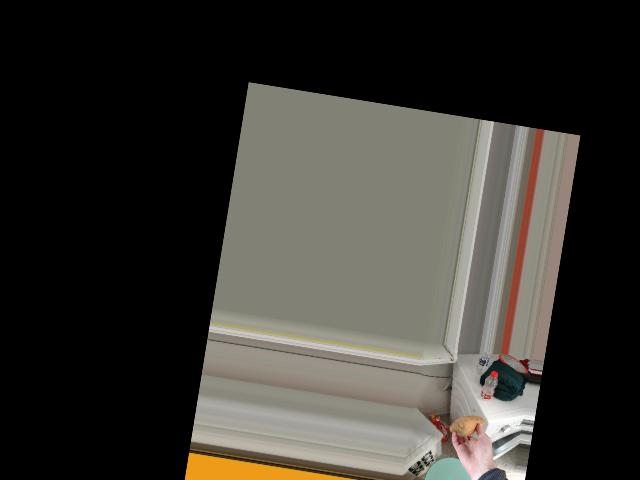sweet_potato: (451, 412, 484, 442)
